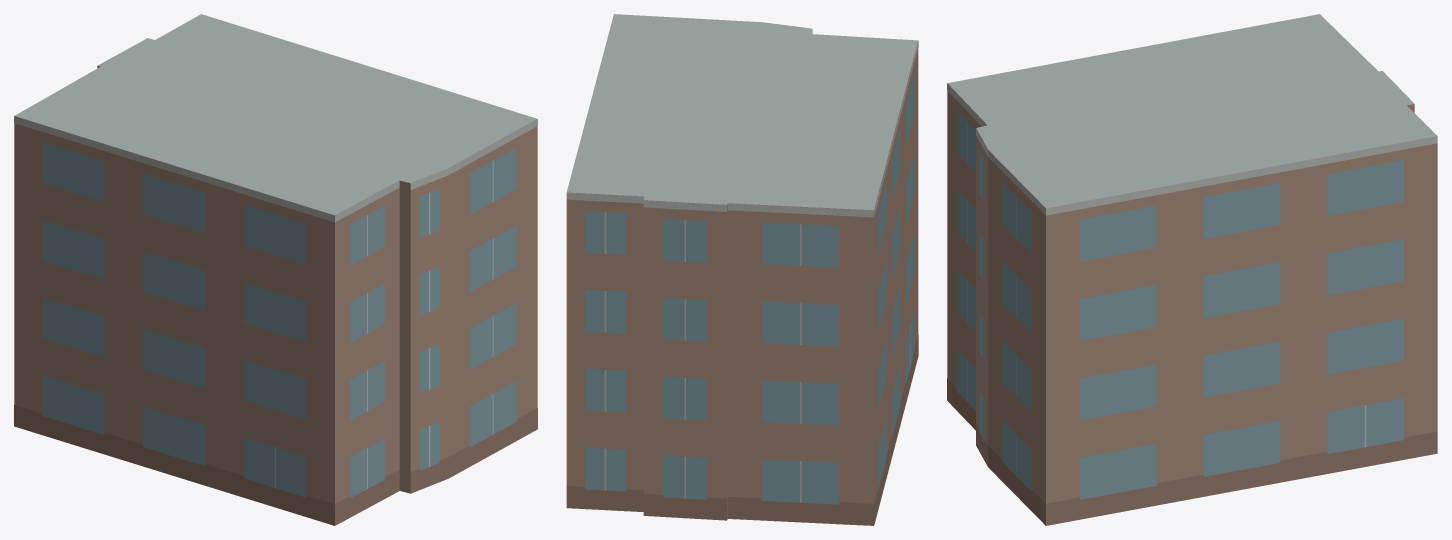
The model's file is survey-upis-32637571.glb.
The picture shows the model from 3 angles, left to right: view 1: azimuth 30°, elevation 25°; view 2: azimuth 150°, elevation 25°; view 3: azimuth 270°, elevation 25°; orthographic projection. The views are drawn at different scales.
Parts seen in each view (by area): view 1: survey-upis-32637571.tmp; view 2: survey-upis-32637571.tmp; view 3: survey-upis-32637571.tmp.
Part boxes in pixels (<box>): survey-upis-32637571.tmp: <box>14,14,537,525</box>; survey-upis-32637571.tmp: <box>566,14,918,525</box>; survey-upis-32637571.tmp: <box>947,14,1437,525</box>.
Bounding box in the file's own units: 14.13 × 10.75 × 15.06.
